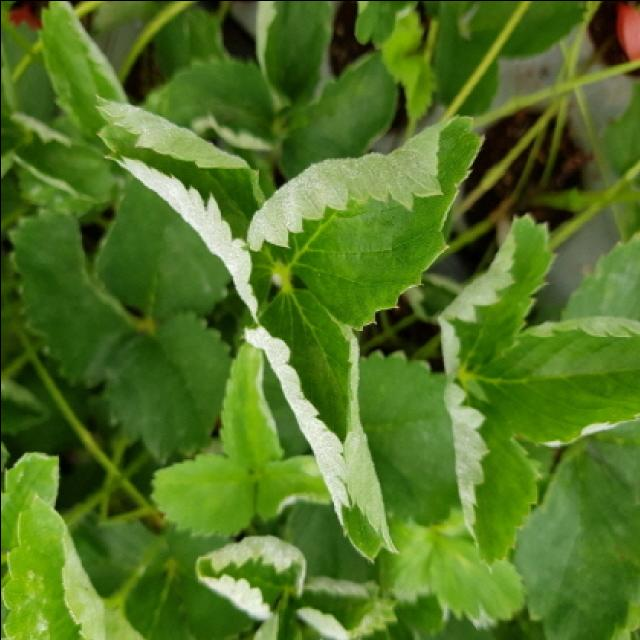Powdery Mildew Leaf: (244, 114, 488, 332), (242, 285, 399, 563), (93, 94, 276, 323), (458, 315, 638, 448), (441, 372, 543, 572), (435, 211, 558, 376), (0, 488, 107, 640), (194, 533, 306, 622), (293, 575, 385, 640)
